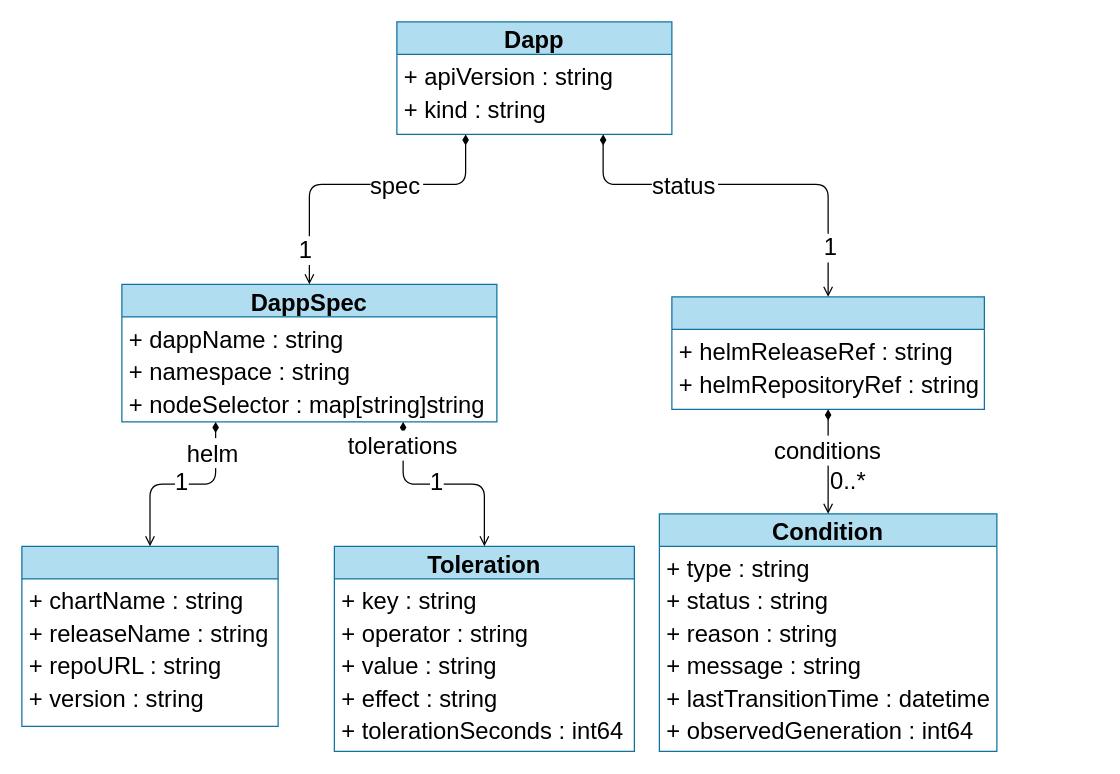
The diagram is 1120 pixels wide and 774 high, and some of its shapes have lost their labels. Here are the shapes that lost their labels. From the top down, the box of each, then its label:
(671, 296, 984, 409): DappStatus
(21, 545, 278, 726): HelmSpec
